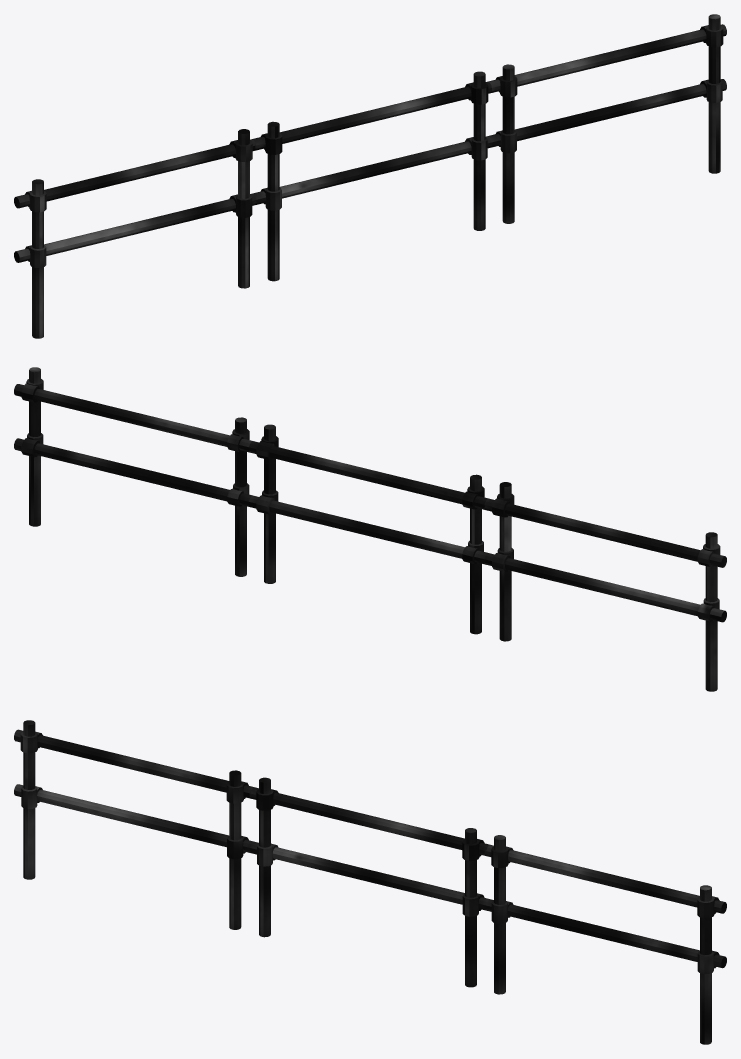
The model's file is bill2-object4.obj.
The picture shows the model from 3 angles, top to bottom: view 1: azimuth 30°, elevation 25°; view 2: azimuth 150°, elevation 25°; view 3: azimuth 330°, elevation 25°; orthographic projection.
Bounding box in the file's own units: 8.89 × 1.86 × 0.2765.
1 material, 1 textured.
